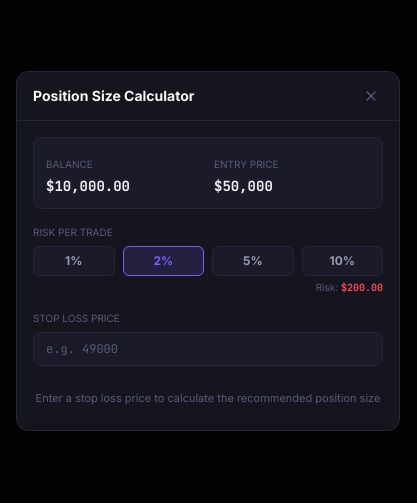
Test: PositionSizeCalculator › shows max loss equal to risk amount
Type "49000" into the number field with placeholder "e.g. 49000" at x=208, y=349, box [33,332,383,366]
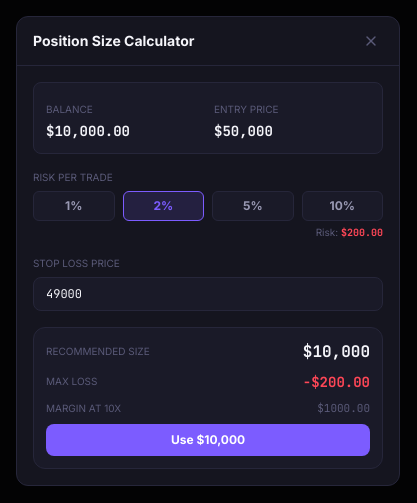
Expected: the text "−$200.00" is shown, [303,372,370,392]
